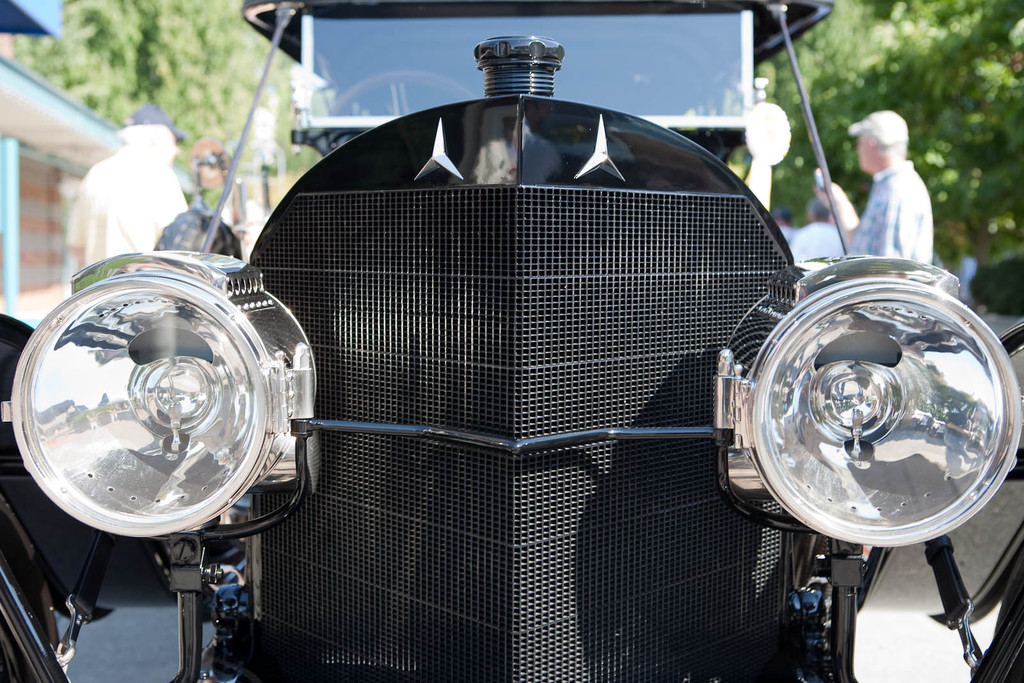Tree: (759, 2, 1022, 272), (10, 0, 288, 162)
